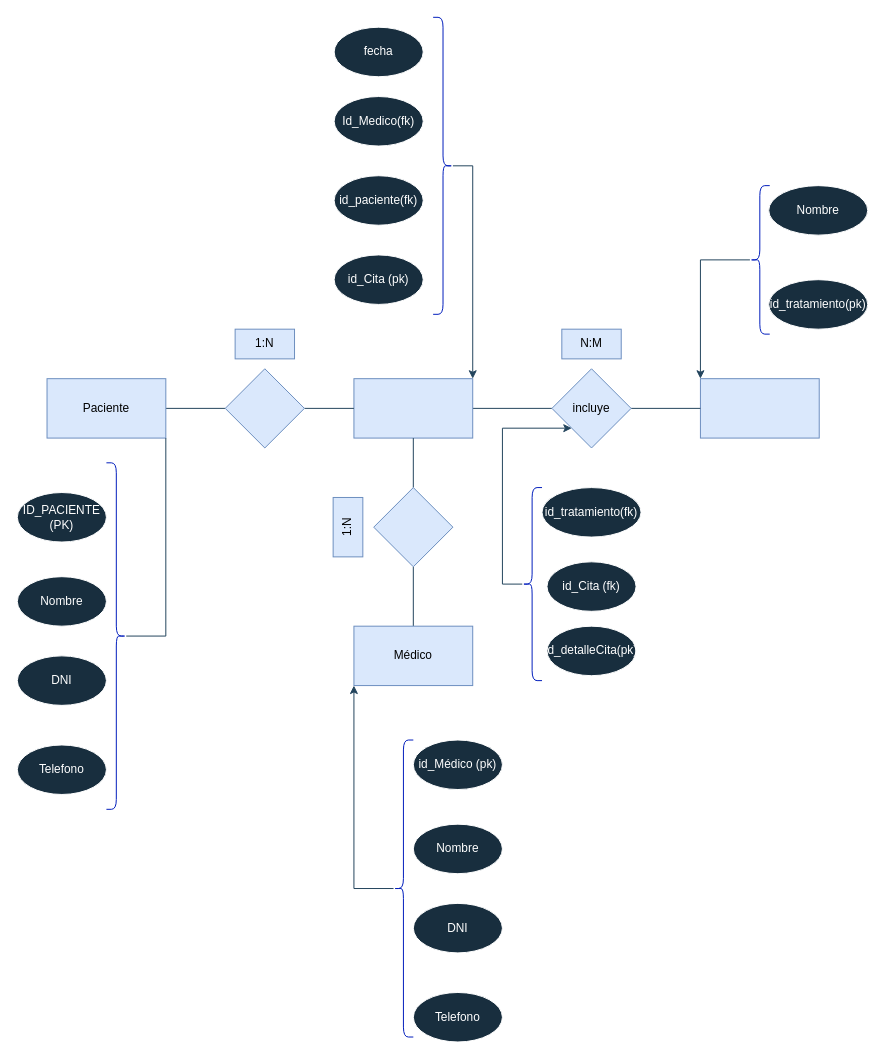
Some shapes in this 885 by 1059 pixel diagram are drawn without their labels. Here are the shapes that lost their labels. From the top down, the centre of each, then its label:
At pixel 264 408: "tiene".
At pixel 413 408: "Cita".
At pixel 759 408: "Tratamiento".
At pixel 413 527: "atiende".
